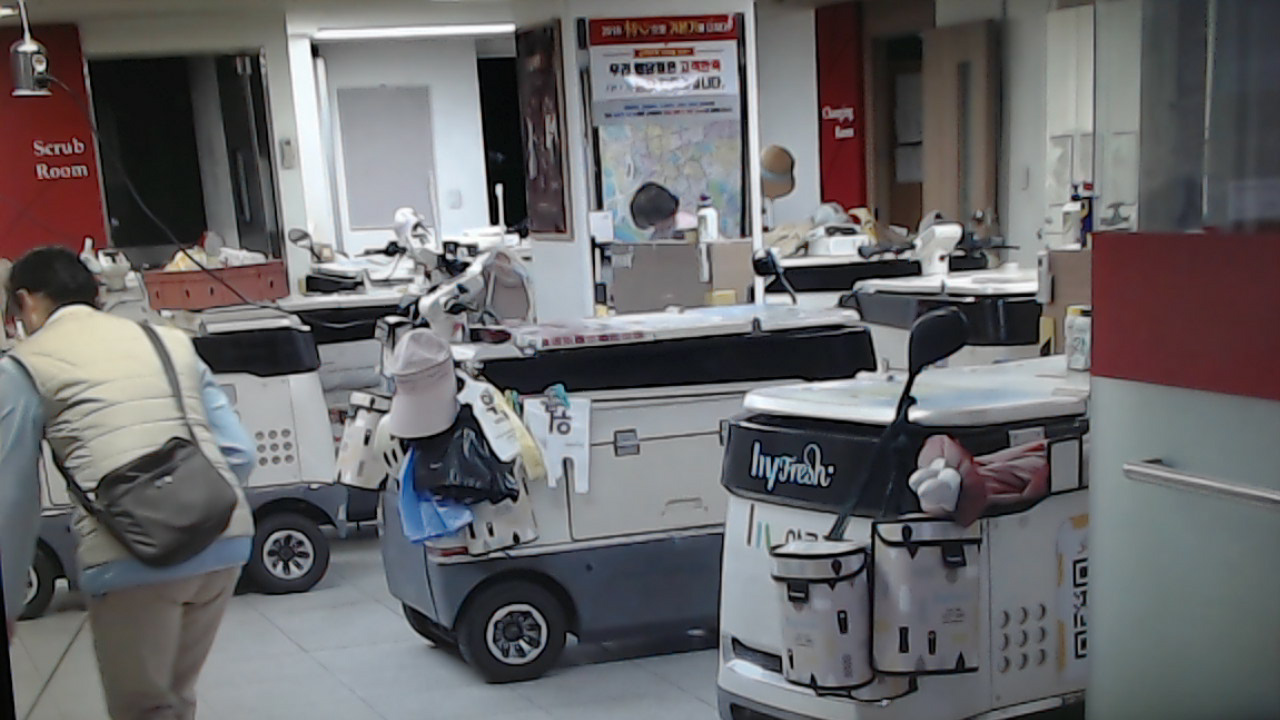Yakurut: (6, 243, 275, 720)
